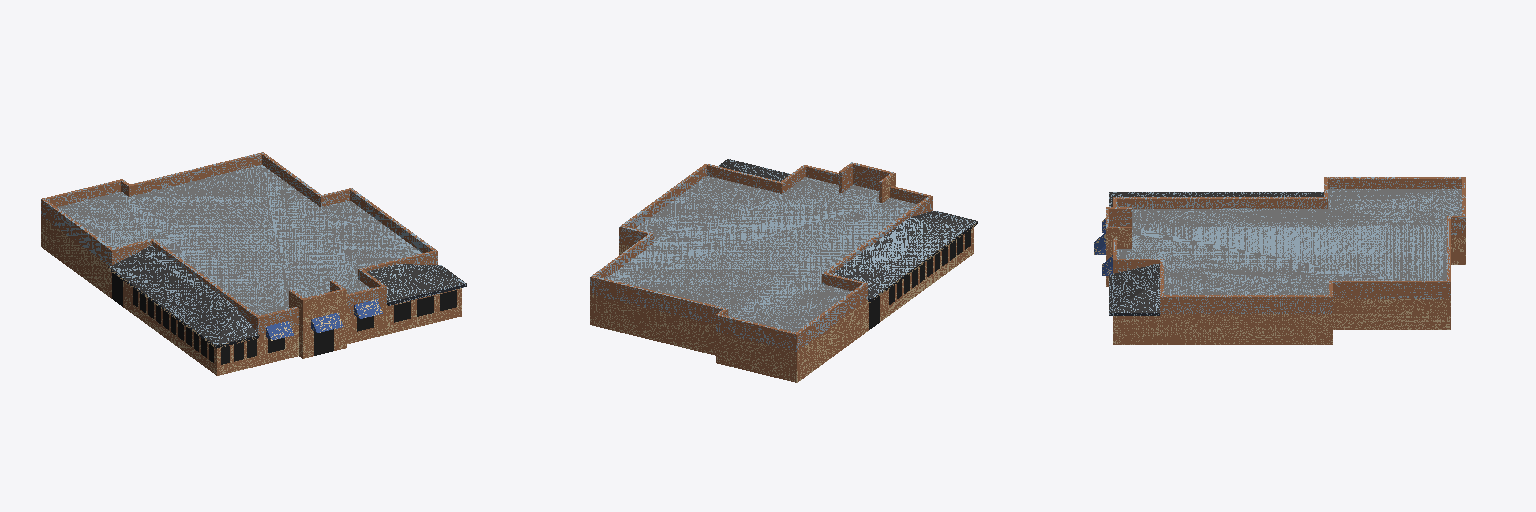
File: restaurante.obj
The picture shows the model from 3 angles: view 1: azimuth 30°, elevation 25°; view 2: azimuth 150°, elevation 25°; view 3: azimuth 270°, elevation 25°; orthographic projection.
Parts seen in each view (by area): view 1: Mesh24 Top_4_1 Restaurant1 Model, Mesh27 Restaurant1 Model, Mesh25 Roof_3_1 Restaurant1 Model, Mesh26 Roof_4_1 Restaurant1 Model; view 2: Mesh24 Top_4_1 Restaurant1 Model, Mesh27 Restaurant1 Model, Mesh25 Roof_3_1 Restaurant1 Model, Mesh26 Roof_4_1 Restaurant1 Model; view 3: Mesh24 Top_4_1 Restaurant1 Model, Mesh27 Restaurant1 Model, Mesh26 Roof_4_1 Restaurant1 Model, Mesh25 Roof_3_1 Restaurant1 Model.
Boxes of the visible parts, x1,y1,x2,y2 form: Mesh24 Top_4_1 Restaurant1 Model: [57, 165, 421, 315]; Mesh27 Restaurant1 Model: [41, 152, 466, 375]; Mesh25 Roof_3_1 Restaurant1 Model: [109, 245, 258, 345]; Mesh26 Roof_4_1 Restaurant1 Model: [367, 264, 466, 302]; Mesh24 Top_4_1 Restaurant1 Model: [606, 176, 916, 332]; Mesh27 Restaurant1 Model: [590, 162, 977, 382]; Mesh25 Roof_3_1 Restaurant1 Model: [833, 211, 977, 298]; Mesh26 Roof_4_1 Restaurant1 Model: [719, 159, 789, 181]; Mesh24 Top_4_1 Restaurant1 Model: [1117, 189, 1461, 294]; Mesh27 Restaurant1 Model: [1106, 177, 1465, 344]; Mesh26 Roof_4_1 Restaurant1 Model: [1109, 263, 1159, 312]; Mesh25 Roof_3_1 Restaurant1 Model: [1109, 192, 1323, 206].
Bounding box in the file's own units: 23.25 × 5.18 × 29.84.